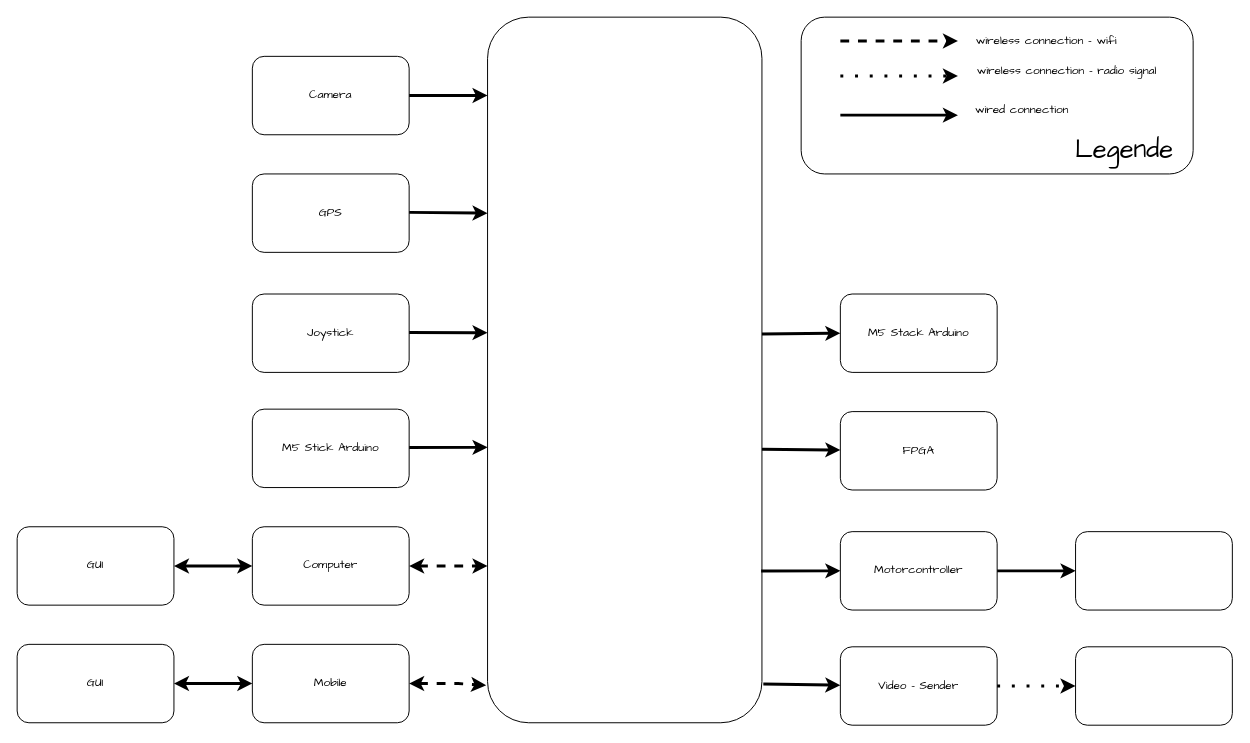
The diagram is 1250 pixels wide and 743 high, and some of its shapes have lost their labels. The centre of each missing label's shape, as x and y in pixels:
BeagleBoneBlack: the point at 624,369
Motor: the point at 1153,570
VR-Glasses: the point at 1153,685
